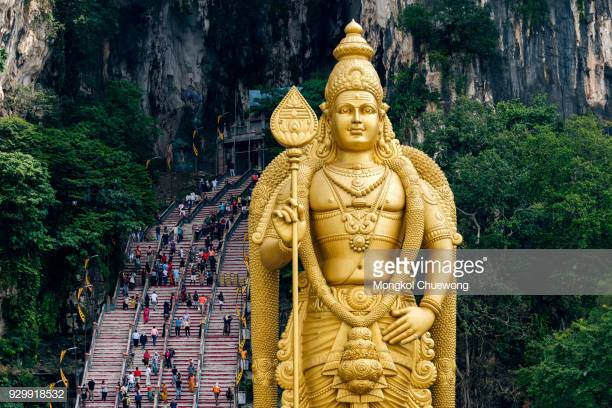Hindu Temple: (252, 11, 456, 408)
